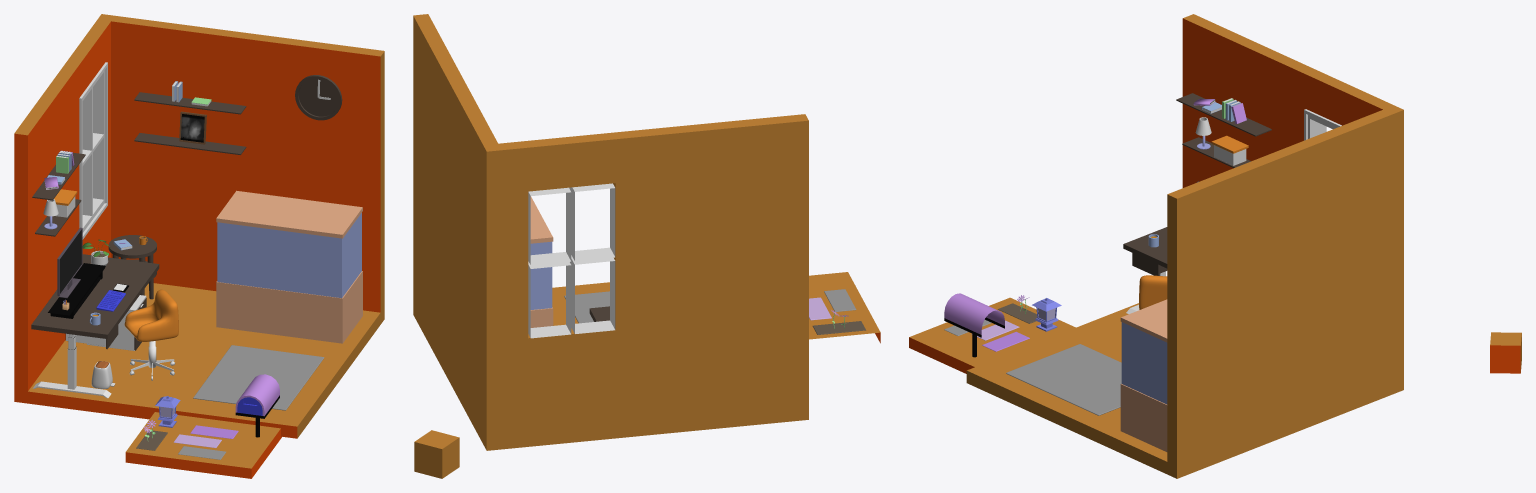
Rendered from testcolor.glb.
The picture shows the model from 3 angles, left to right: view 1: azimuth 30°, elevation 25°; view 2: azimuth 150°, elevation 25°; view 3: azimuth 270°, elevation 25°; orthographic projection. The views are drawn at different scales.
Parts seen in each view (by area): view 1: Body, Aquarium, Desks, Floor Items, Mini Floor, Shelves, Table Stuff, Chair, Clock, Mailbox, Computer, Lamp (+4 smaller); view 2: Body, Mini Floor, Aquarium, Cube, Floor Items, Dirt, FloorThird; view 3: Body, Aquarium, Floor Items, Mini Floor, Shelves, Mailbox, Desks, Cube, Chair, Lamp.
Part boxes in pixels (x1,y1,x2,y2): Body: (14,14,384,438); Aquarium: (216,190,362,343); Desks: (31,235,159,398); Floor Items: (87,295,324,410); Mini Floor: (125,412,281,478); Shelves: (32,81,246,236); Table Stuff: (48,236,147,325); Chair: (124,289,178,341); Clock: (295,75,342,120); Mailbox: (235,374,279,437); Computer: (57,227,82,298); Lamp: (155,396,180,427); Body: (413,14,808,450); Mini Floor: (809,272,880,343); Aquarium: (530,196,553,327); Cube: (414,430,459,478); Floor Items: (564,291,609,323); Dirt: (812,321,865,334); FloorThird: (824,289,856,311); Body: (966,14,1403,478); Aquarium: (1120,299,1167,451); Floor Items: (1006,344,1121,415); Mini Floor: (909,297,1075,373); Shelves: (1176,93,1271,167); Mailbox: (944,293,1004,357); Desks: (1123,227,1167,313); Cube: (1490,332,1521,373); Chair: (1139,275,1167,309); Lamp: (1032,298,1061,331).
Bounding box in the file's own units: 27.58 × 19.65 × 38.64.
Materials: 42 (1 with a texture image).
